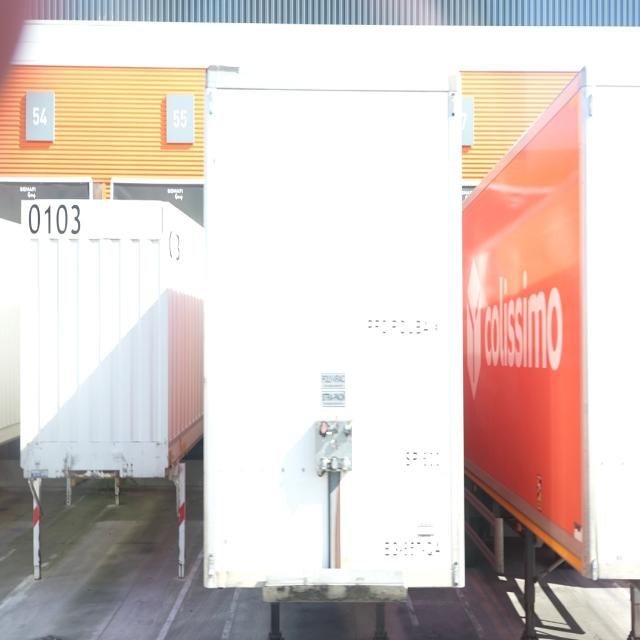Code: (26, 198, 84, 246)
